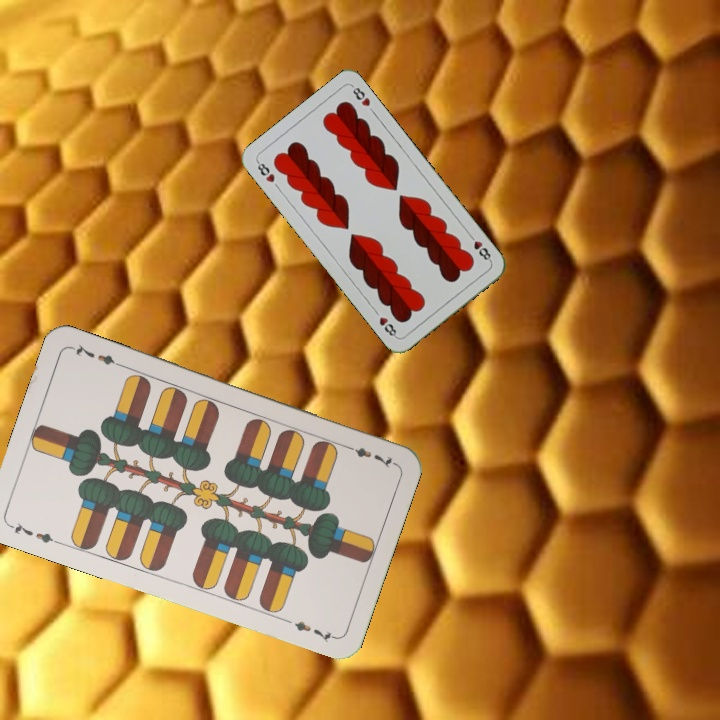E7: (340, 441, 397, 471), (5, 519, 63, 547)
H8: (464, 230, 494, 264), (253, 157, 277, 185)
